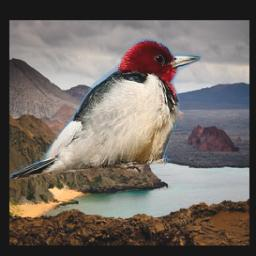Woodpecker: (9, 40, 203, 179)
